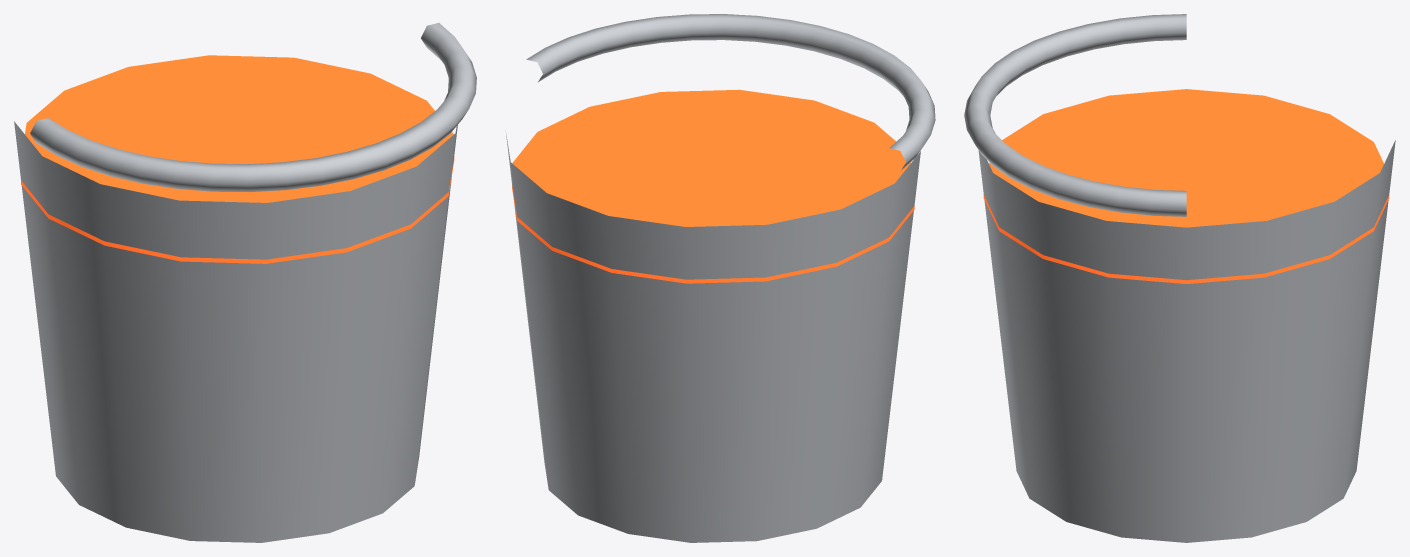
The model's file is lava_bucket.glb.
3 views of the same model, side by side, from view 1: azimuth 30°, elevation 25°; view 2: azimuth 150°, elevation 25°; view 3: azimuth 270°, elevation 25° (orthographic). The views are drawn at different scales.
Visible parts, largest first — view 1: pail, liquid, handle; view 2: pail, liquid, handle; view 3: pail, liquid, handle.
Part boxes in pixels (bbox=[...]): pail: bbox=[14, 121, 457, 542]; liquid: bbox=[21, 55, 454, 263]; handle: bbox=[30, 23, 476, 192]; pail: bbox=[505, 130, 920, 542]; liquid: bbox=[512, 89, 914, 283]; handle: bbox=[526, 14, 935, 170]; pail: bbox=[978, 140, 1395, 542]; liquid: bbox=[983, 89, 1389, 283]; handle: bbox=[964, 14, 1186, 216].
Bounding box in the file's own units: 0.34 × 0.3087 × 0.33.
